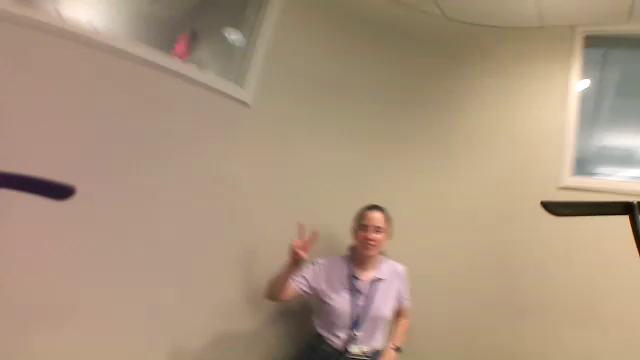peace: (277, 214, 323, 266)
